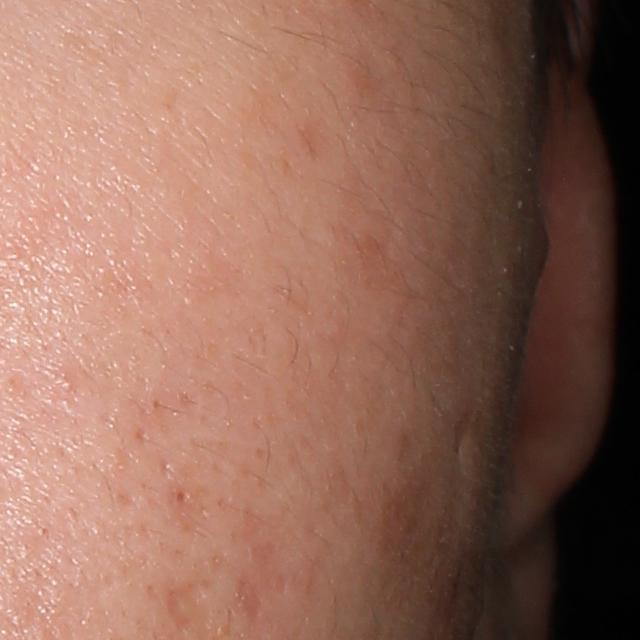atrophic_scar: (442, 396, 482, 546), (160, 578, 214, 632), (234, 577, 268, 626)
comedo: (169, 484, 192, 508)
